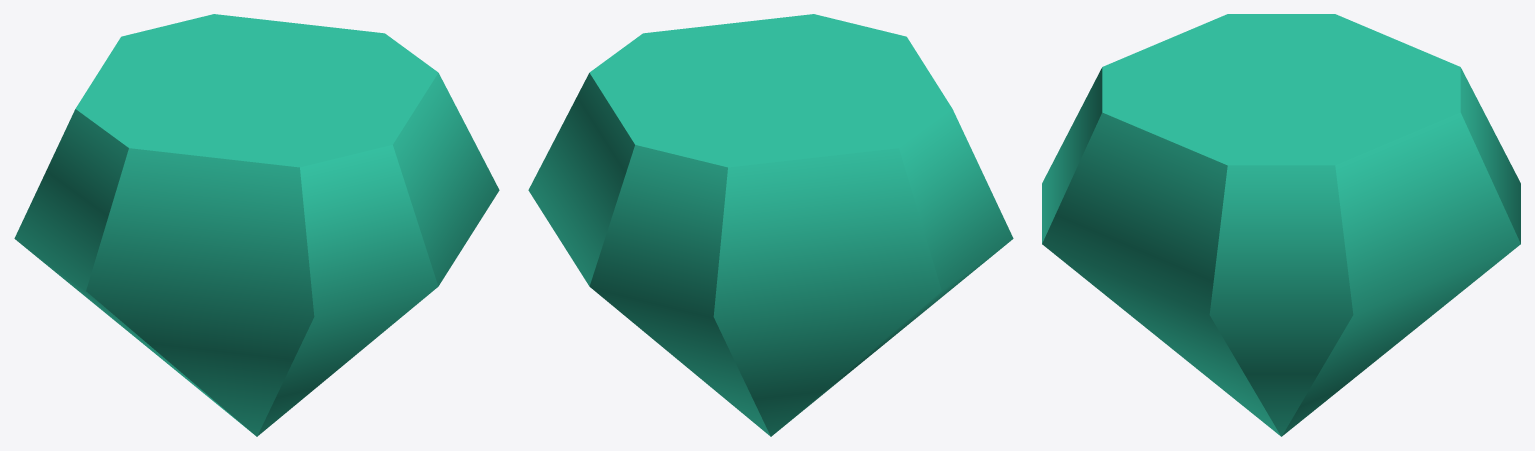
The model's file is emerald.fbx.
The picture shows the model from 3 angles, left to right: view 1: azimuth 30°, elevation 25°; view 2: azimuth 150°, elevation 25°; view 3: azimuth 270°, elevation 25°; orthographic projection.
Parts seen in each view (by area): view 1: pCube1; view 2: pCube1; view 3: pCube1.
Part boxes in pixels (box(x1,y1,x2,y2)): pCube1: box(14, 14, 499, 436); pCube1: box(528, 14, 1013, 436); pCube1: box(1042, 14, 1520, 436).
Size of the model in its own units: 50 by 40 by 50.
1 material, 1 textured.
